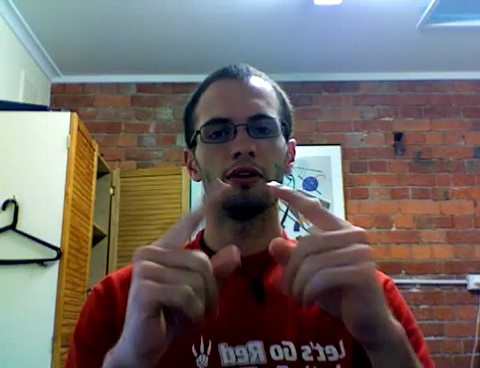X: (122, 175, 401, 343)
